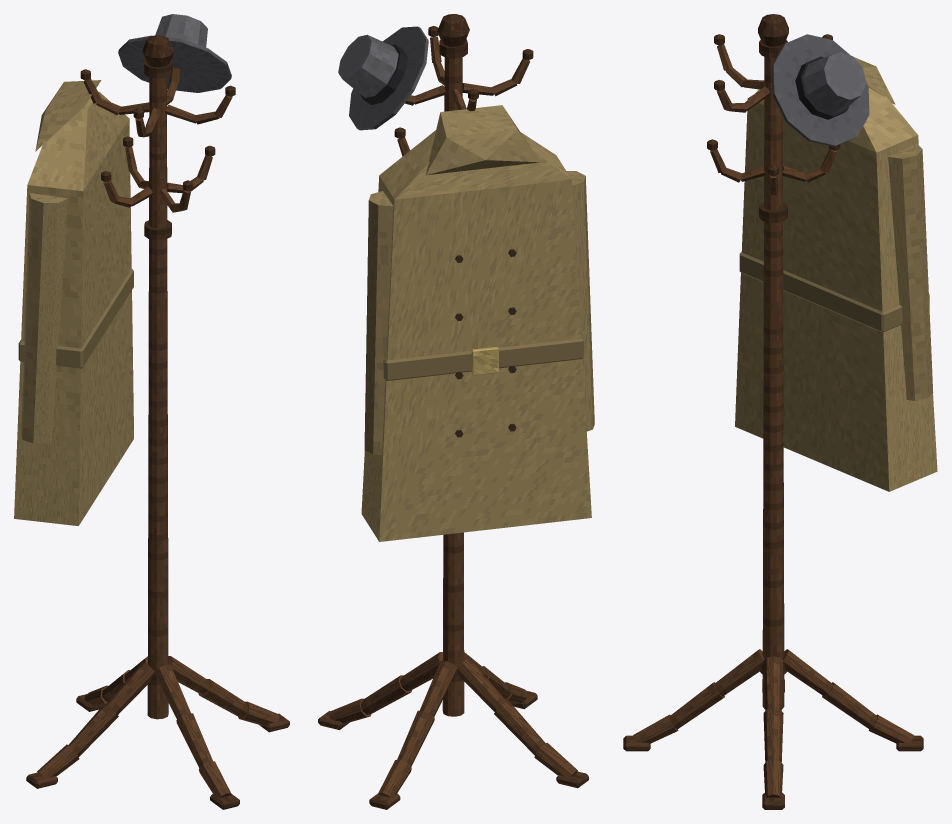
Rendered from f_rack_coat.glb.
3 renders of one model, left to right at view 1: azimuth 30°, elevation 25°; view 2: azimuth 150°, elevation 25°; view 3: azimuth 270°, elevation 25°, orthographic. The views are drawn at different scales.
Visible parts, largest first — view 1: block_coat, block_pole, block_sleeve-1, block_brim, block_belt, block_collar, block_crown, block_foot2-1, block_foot2-0, block_foot3-0, block_foot3-1, block_foot0-1 (+5 smaller); view 2: block_coat, block_sleeve1, block_collar, block_pole, block_belt, block_brim, block_sleeve-1, block_crown, block_foot2-1, block_foot2-0, block_foot1-0, block_foot1-1 (+8 smaller); view 3: block_coat, block_pole, block_sleeve1, block_brim, block_belt, block_crown, block_foot0-0, block_foot1-1, block_foot3-1, block_foot1-0, block_foot3-0, block_foot0-1 (+6 smaller).
Part boxes in pixels (bbox=[...]): block_coat: bbox=[14, 91, 133, 525]; block_pole: bbox=[147, 77, 168, 719]; block_sleeve-1: bbox=[21, 193, 67, 443]; block_brim: bbox=[118, 35, 231, 92]; block_belt: bbox=[18, 268, 133, 368]; block_collar: bbox=[35, 80, 101, 151]; block_crown: bbox=[155, 14, 207, 47]; block_foot2-1: bbox=[69, 703, 118, 756]; block_foot2-0: bbox=[106, 661, 154, 714]; block_foot3-0: bbox=[154, 664, 190, 719]; block_foot3-1: bbox=[176, 713, 212, 767]; block_foot0-1: bbox=[198, 679, 248, 716]; block_coat: bbox=[361, 130, 591, 541]; block_sleeve1: bbox=[364, 191, 393, 454]; block_collar: bbox=[426, 105, 540, 175]; block_pole: bbox=[442, 57, 464, 716]; block_belt: bbox=[383, 337, 583, 380]; block_brim: bbox=[349, 26, 428, 130]; block_sleeve-1: bbox=[566, 171, 594, 431]; block_crown: bbox=[338, 34, 398, 97]; block_foot2-1: bbox=[494, 700, 545, 755]; block_foot2-0: bbox=[457, 657, 506, 711]; block_foot1-0: bbox=[419, 660, 457, 716]; block_foot1-1: bbox=[397, 710, 434, 766]; block_coat: bbox=[735, 87, 937, 491]; block_pole: bbox=[762, 56, 784, 708]; block_sleeve1: bbox=[888, 143, 933, 400]; block_brim: bbox=[771, 34, 869, 146]; block_belt: bbox=[739, 252, 929, 332]; block_crown: bbox=[803, 52, 866, 113]; block_foot0-0: bbox=[763, 656, 783, 710]; block_foot1-1: bbox=[822, 682, 877, 729]; block_foot3-1: bbox=[669, 682, 724, 729]; block_foot1-0: bbox=[782, 649, 832, 696]; block_foot3-0: bbox=[714, 649, 764, 696]; block_foot0-1: bbox=[763, 708, 783, 762].
Size of the model in its own units: 0.6906 by 1.78 by 0.6906.
Materials: 2 (2 with a texture image).
